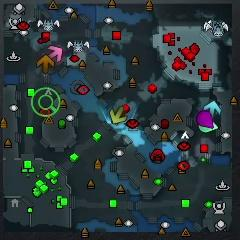p2: (199, 121, 218, 133)
p3: (197, 111, 213, 128)
x1: (48, 45, 63, 62)
x2: (110, 106, 128, 124)
x3: (204, 100, 222, 118)
x5: (37, 54, 55, 72)
